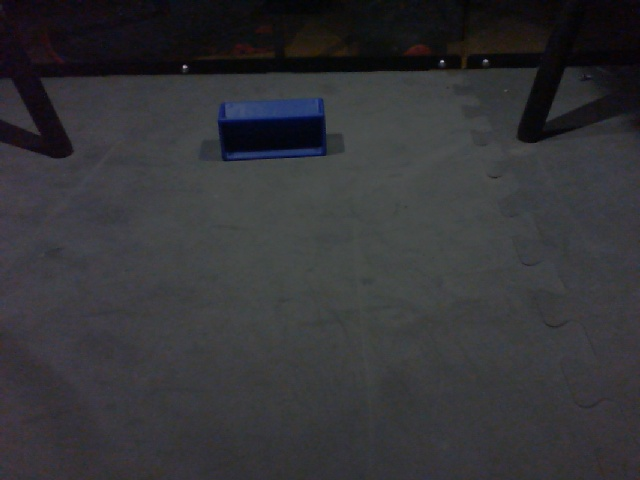BlueSample: (215, 98, 328, 163)
